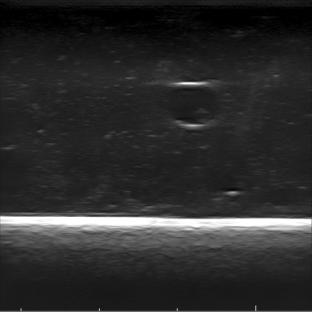vessel: (164, 82, 222, 129)
